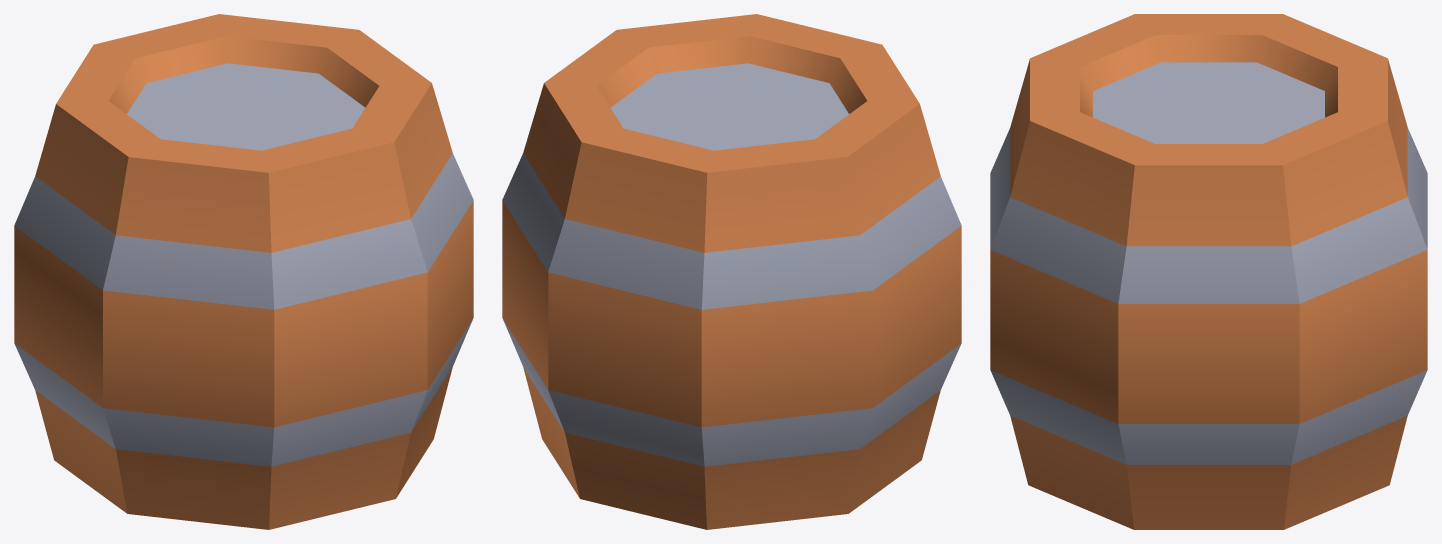
Rendered from barrel.fbx.
3 views of the same model, side by side, from view 1: azimuth 30°, elevation 25°; view 2: azimuth 150°, elevation 25°; view 3: azimuth 270°, elevation 25° (orthographic). The views are drawn at different scales.
Parts seen in each view (by area): view 1: barrel; view 2: barrel; view 3: barrel.
Part boxes in pixels (x1=…): barrel: x1=14, y1=14, x2=473, y2=529; barrel: x1=502, y1=14, x2=961, y2=529; barrel: x1=990, y1=14, x2=1427, y2=529.
Bounding box in the file's own units: 4.36 × 4 × 4.36.
